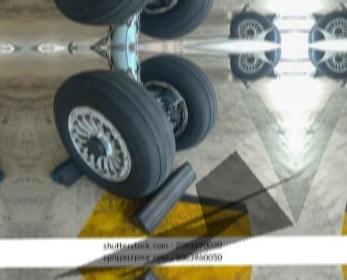chock: (127, 160, 198, 236), (49, 150, 100, 187), (265, 12, 281, 23), (266, 68, 282, 79), (309, 67, 325, 78), (309, 11, 324, 22)
wheel: (52, 70, 170, 197), (136, 54, 217, 151), (135, 0, 216, 38), (230, 11, 280, 43), (230, 48, 280, 79), (311, 47, 347, 79), (310, 11, 347, 42)
